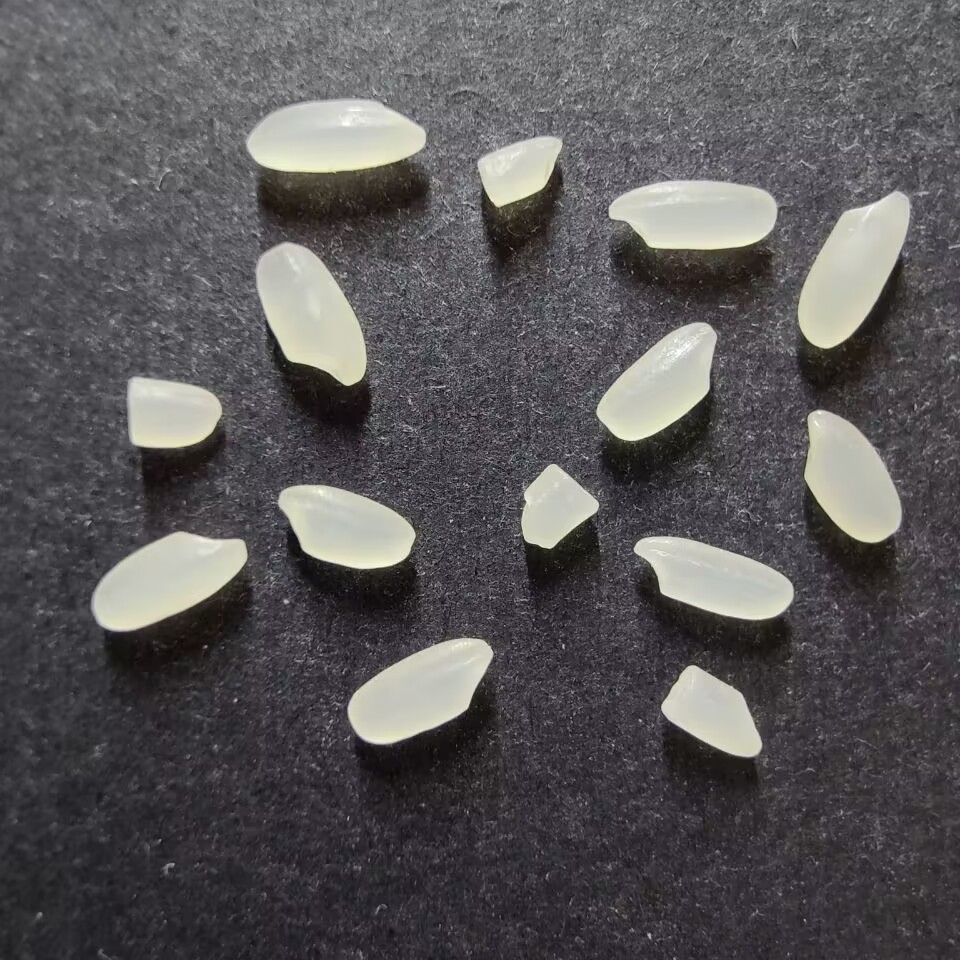broken: (660, 664, 763, 758), (126, 376, 222, 448), (520, 462, 599, 549), (475, 135, 563, 207)
rice: (796, 190, 911, 348), (255, 243, 366, 387), (90, 530, 248, 631), (346, 637, 493, 745), (595, 321, 718, 442), (632, 535, 794, 620), (803, 409, 902, 544), (246, 98, 426, 172), (607, 179, 776, 250), (278, 484, 415, 568)
